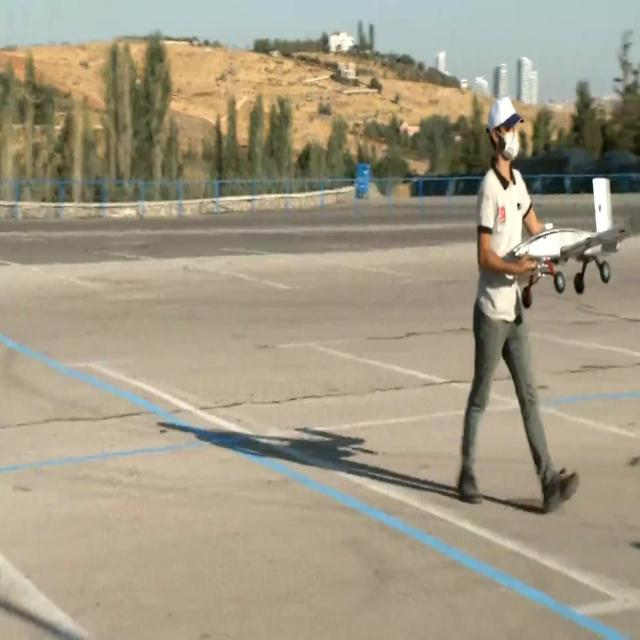iha: (546, 178, 594, 309)
